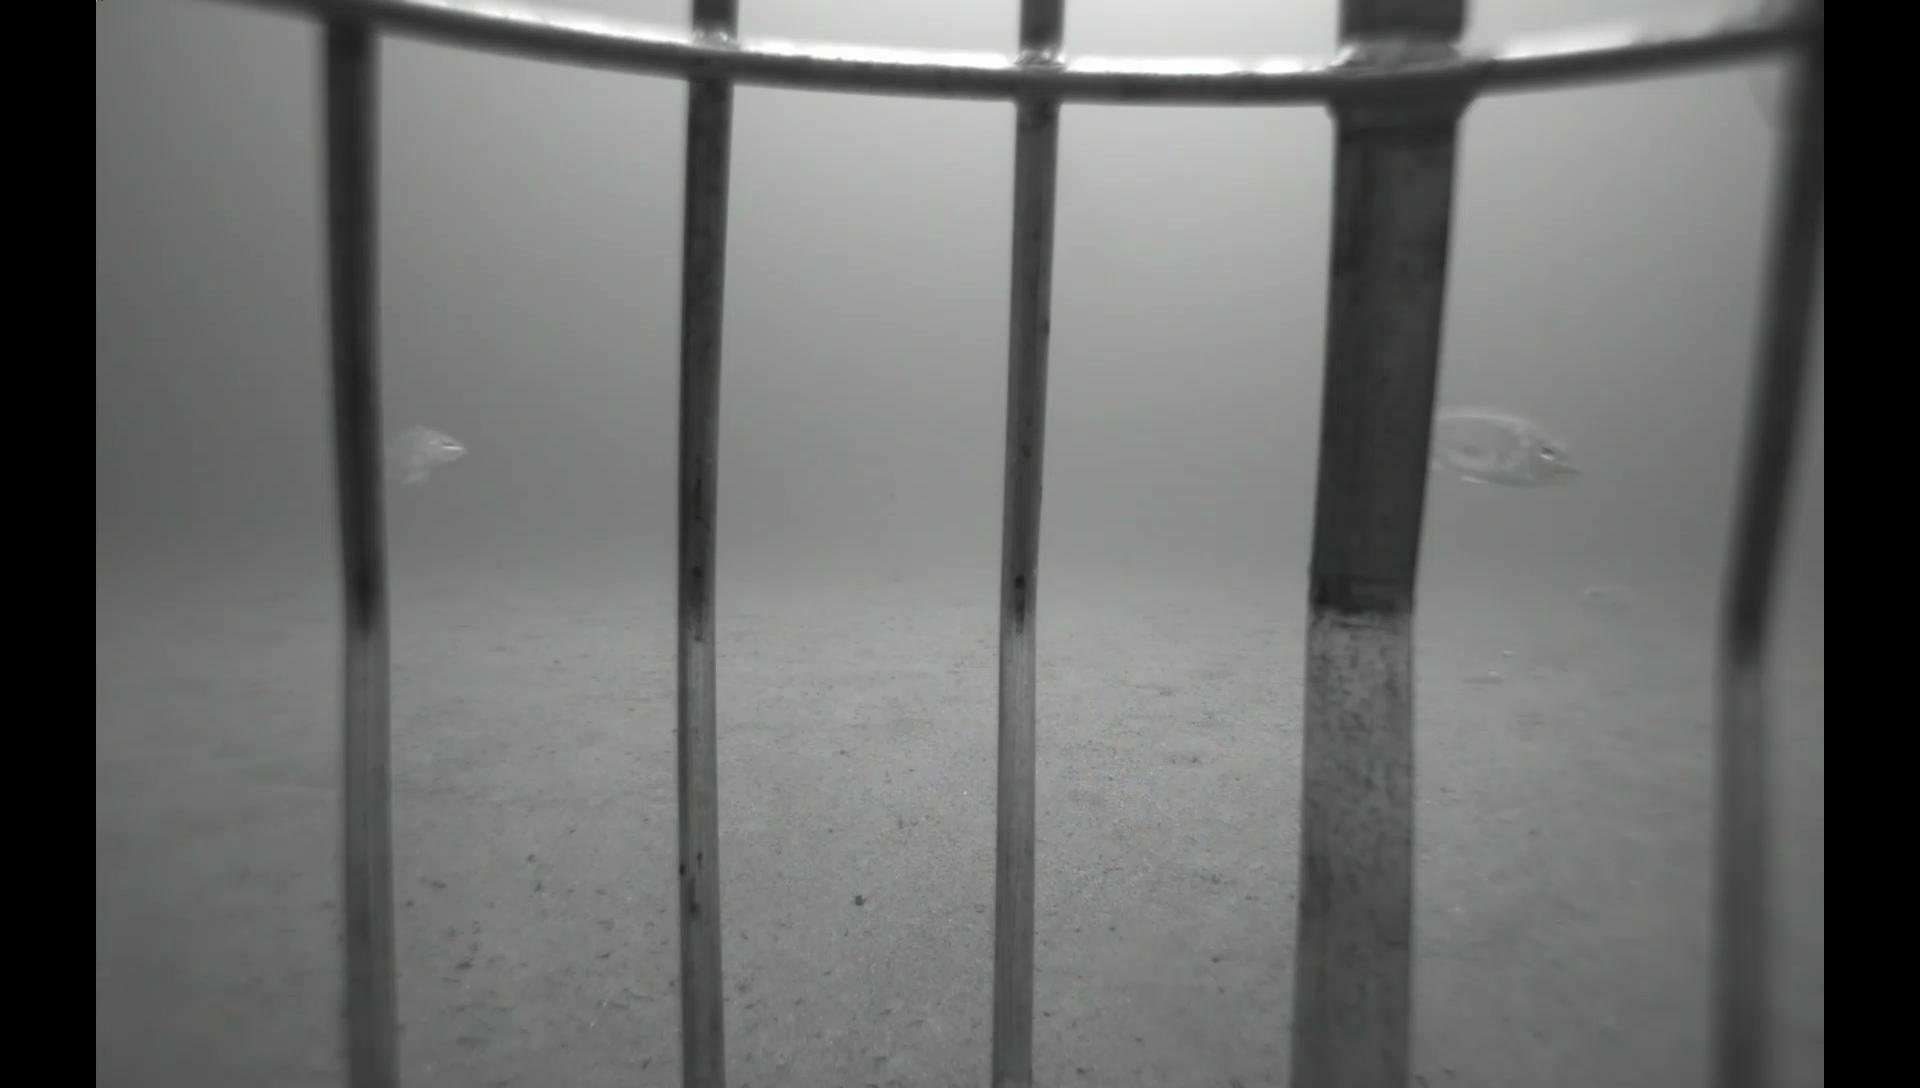PAGRUSPAGRUS-170212302: (1573, 564, 1680, 626)
PRISTIPOMOIDES-170151800: (1423, 388, 1589, 499), (384, 415, 476, 497)
